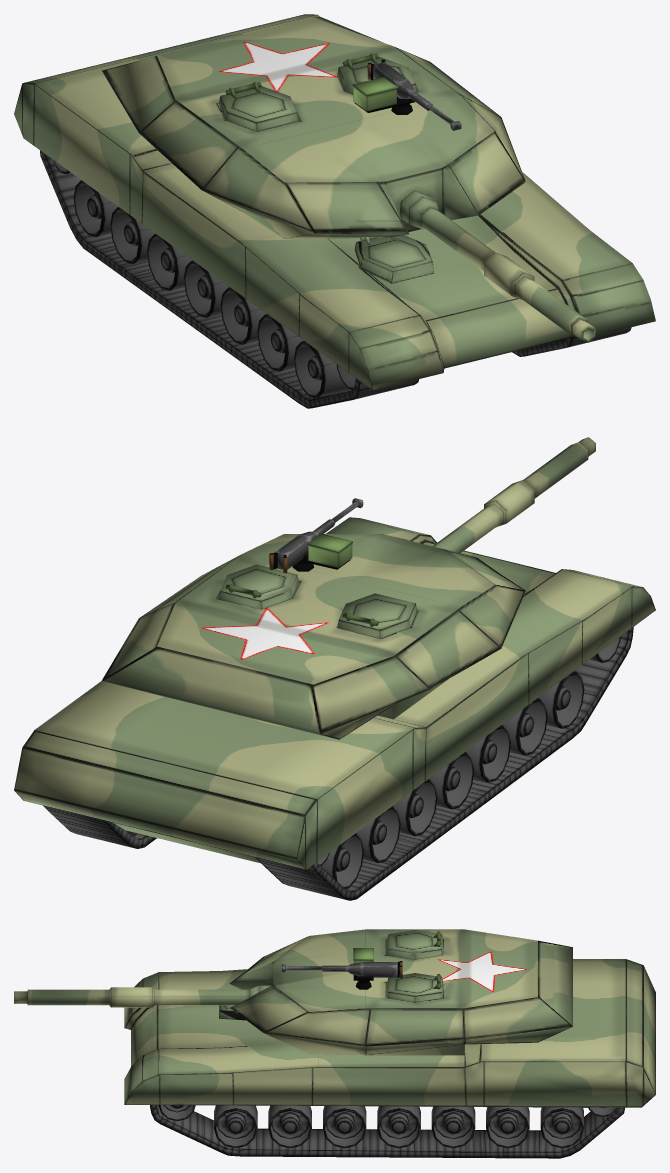
The model's file is EnemyTank.obj.
The picture shows the model from 3 angles, top to bottom: view 1: azimuth 30°, elevation 25°; view 2: azimuth 150°, elevation 25°; view 3: azimuth 270°, elevation 25°; orthographic projection. The views are drawn at different scales.
Parts seen in each view (by area): view 1: Plane.054_Plane.079; view 2: Plane.054_Plane.079; view 3: Plane.054_Plane.079.
Boxes of the visible parts, x1,y1,x2,y2 form: Plane.054_Plane.079: [14, 14, 655, 408]; Plane.054_Plane.079: [14, 437, 655, 900]; Plane.054_Plane.079: [14, 929, 655, 1158].
Size of the model in its own units: 1.35 by 0.9484 by 3.37.
Materials: 1 (1 with a texture image).
